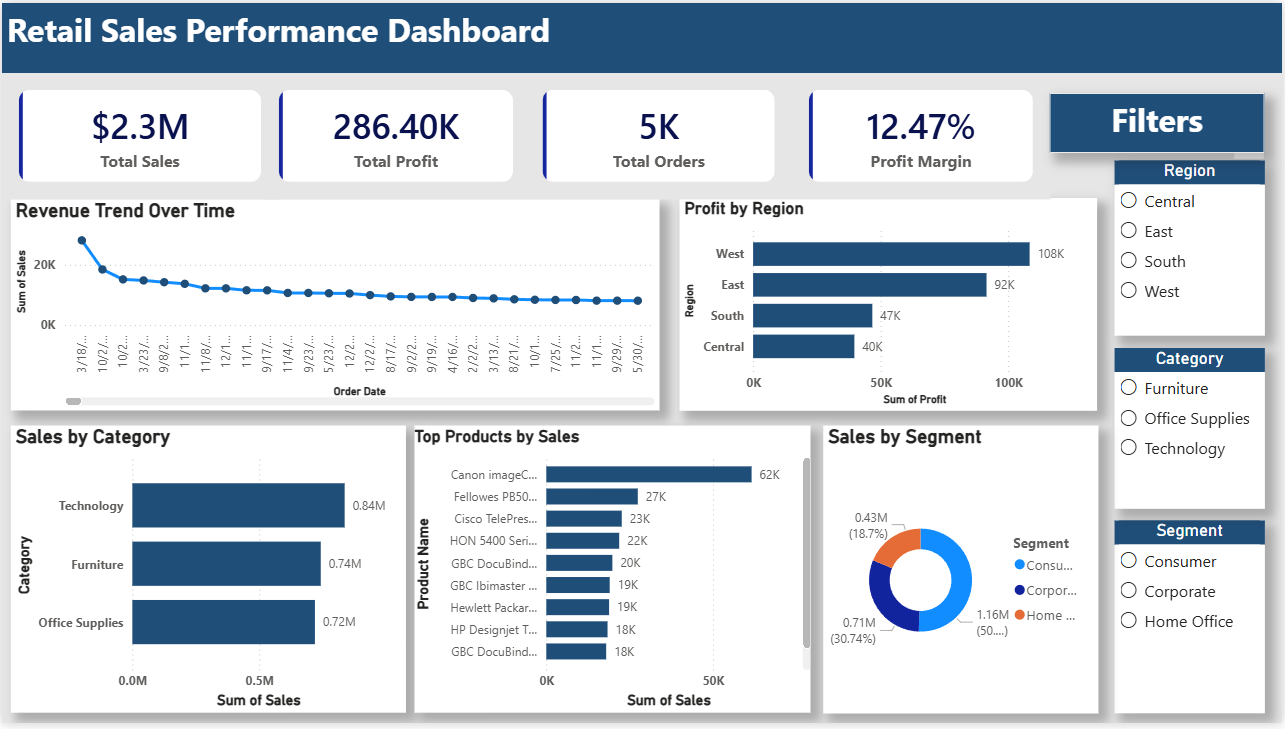

What the dashboard file says about the page in this screenshot:
{"tool":"powerbi","page":{"name":"Page 1","canvas":[1280,720],"ordinal":0},"visuals":[{"type":"shape","box":[0,0,1280,70],"z":0},{"type":"textbox","box":[0,0,576.7,70],"z":1000},{"type":"lineChart","title":"Revenue Trend Over Time","fields":{"Category":["superstore.Order Date"],"Y":["Sum(superstore.Sales)"]},"box":[8.8,196.2,648.8,211.2],"z":2000},{"type":"clusteredBarChart","title":"Sales by Category","fields":{"Category":["superstore.Category"],"Y":["Sum(superstore.Sales)"]},"box":[8.8,422.5,395,287.5],"z":3000},{"type":"barChart","title":" Profit by Region","fields":{"Category":["superstore.Region"],"Y":["Sum(superstore.Profit)"]},"box":[677.5,195,417.5,212.5],"z":4000},{"type":"barChart","title":"Top  Products by Sales","fields":{"Category":["superstore.Product Name"],"Y":["Sum(superstore.Sales)"]},"box":[412.5,422.5,396.2,287.5],"z":5000},{"type":"listSlicer","fields":{"Values":["superstore.Region"]},"box":[1112.5,157.5,150,175],"z":6000},{"type":"listSlicer","fields":{"Values":["superstore.Segment"]},"box":[1113,518,150,193],"z":7000},{"type":"listSlicer","fields":{"Values":["superstore.Category"]},"box":[1113,345,150,161],"z":8000},{"type":"cardVisual","fields":{"Data":["superstore.Total Sales"]},"box":[0,70,276.2,126.2],"z":9000},{"type":"cardVisual","fields":{"Data":["superstore.Total Orders"]},"box":[524,70,266,126],"z":10000},{"type":"cardVisual","fields":{"Data":["superstore.Total Profit"]},"box":[260,70,268,126],"z":11000},{"type":"cardVisual","fields":{"Data":["superstore.Profit Margin"]},"box":[790,70,258,126],"z":12000},{"type":"donutChart","title":"Sales by Segment","fields":{"Category":["superstore.Segment"],"Y":["Sum(superstore.Sales)"]},"box":[821,423,275,288],"z":13000},{"type":"textbox","box":[1047.5,90,215,60],"z":13001}]}

Visuals, with their boxes in screenshot pixels (x1, y1, x2, y2), scaled from the page's 1280x720 canvas onto the 1285x729 screenshot:
shape: bbox=(0, 0, 1284, 71)
textbox: bbox=(0, 0, 579, 71)
"Revenue Trend Over Time" lineChart: bbox=(9, 199, 660, 412)
"Sales by Category" clusteredBarChart: bbox=(9, 428, 405, 719)
" Profit by Region" barChart: bbox=(680, 197, 1099, 413)
"Top  Products by Sales" barChart: bbox=(414, 428, 812, 719)
listSlicer - superstore.Region: bbox=(1117, 159, 1267, 337)
listSlicer - superstore.Segment: bbox=(1117, 524, 1268, 720)
listSlicer - superstore.Category: bbox=(1117, 349, 1268, 512)
cardVisual - superstore.Total Sales: bbox=(0, 71, 277, 199)
cardVisual - superstore.Total Orders: bbox=(526, 71, 793, 198)
cardVisual - superstore.Total Profit: bbox=(261, 71, 530, 198)
cardVisual - superstore.Profit Margin: bbox=(793, 71, 1052, 198)
"Sales by Segment" donutChart: bbox=(824, 428, 1100, 720)
textbox: bbox=(1052, 91, 1267, 152)
